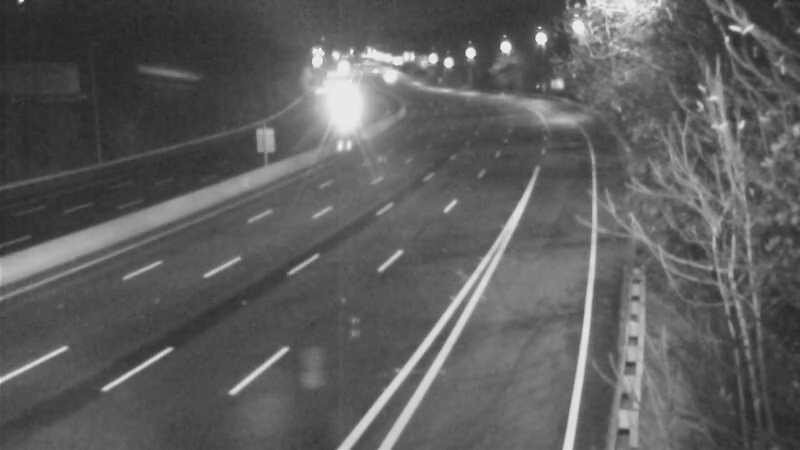vehicle: (364, 52, 414, 102), (321, 89, 371, 139)
